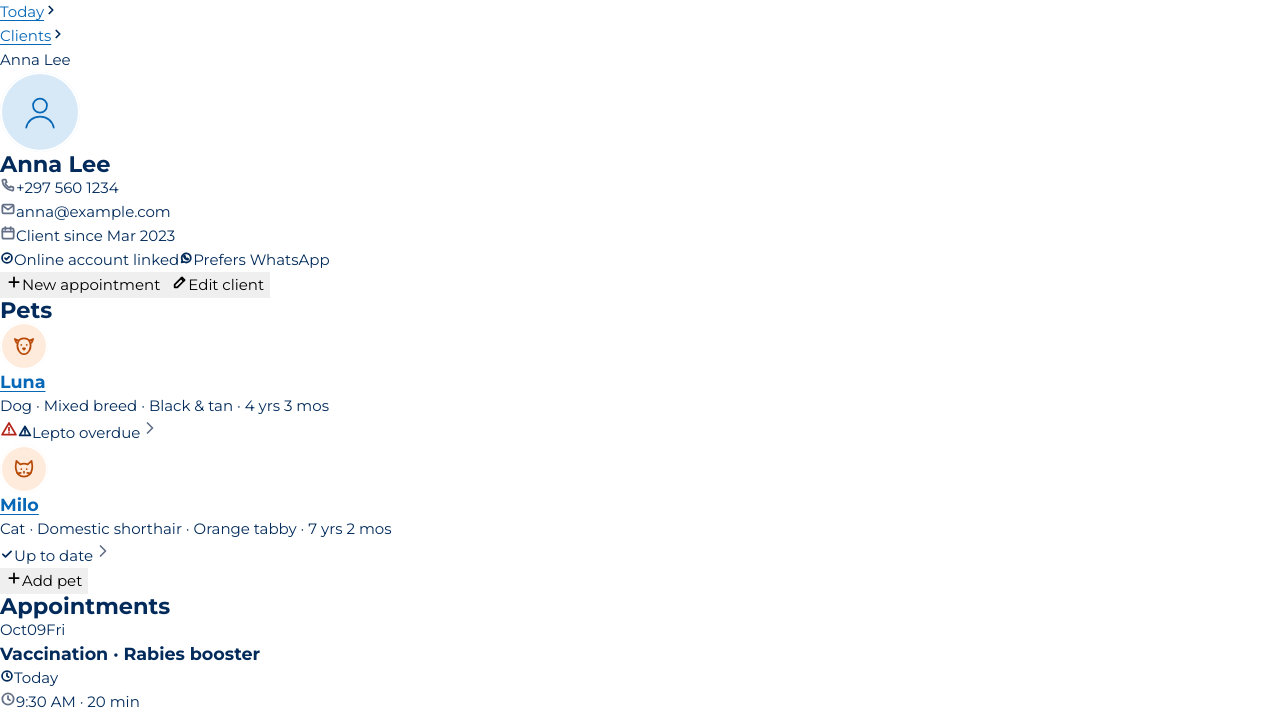
Scenario: ClientDetail › opens the dialog to edit the client with their data
Click the button "Edit client" at (218, 285), box [166,272,270,298]
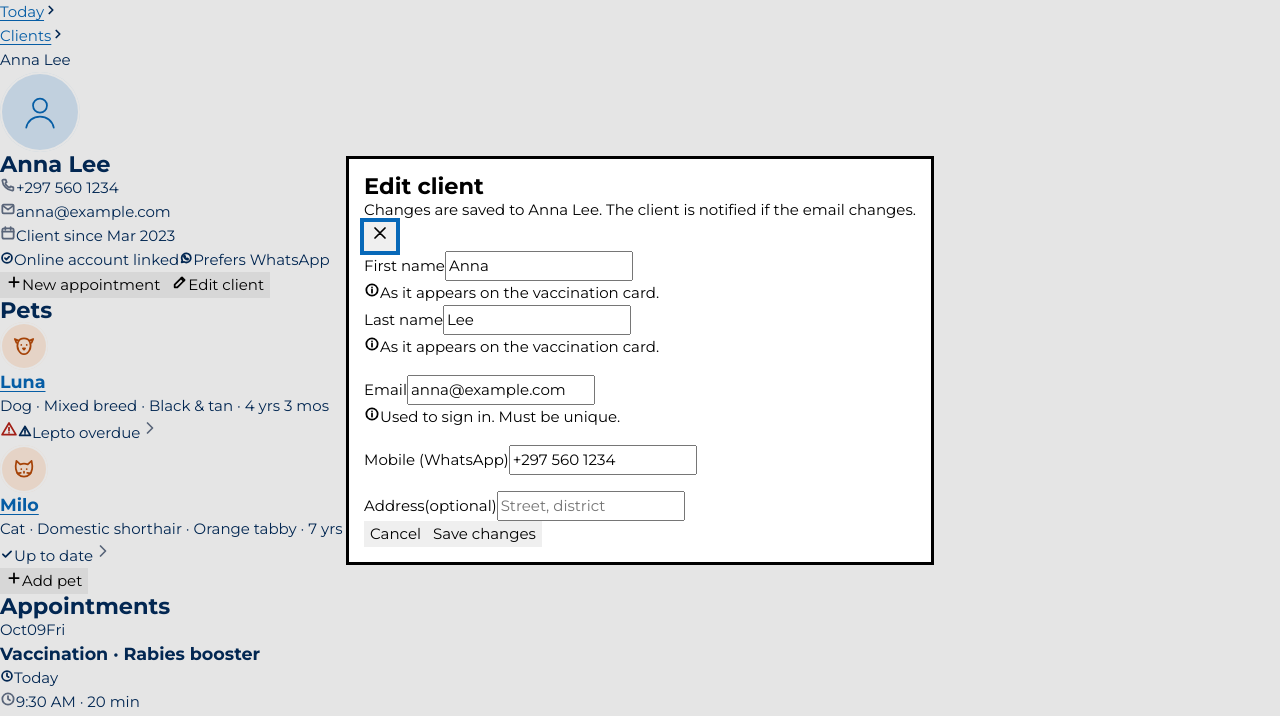
Now the dialog "Edit client" is shown, box [346,156,934,564]
Now the field labelled "Email" holds "anna@example.com", box [407,374,595,404]
